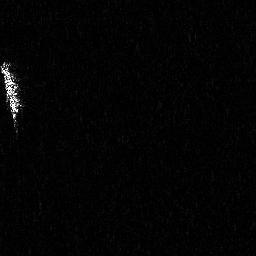ship: (1, 62, 23, 132)
